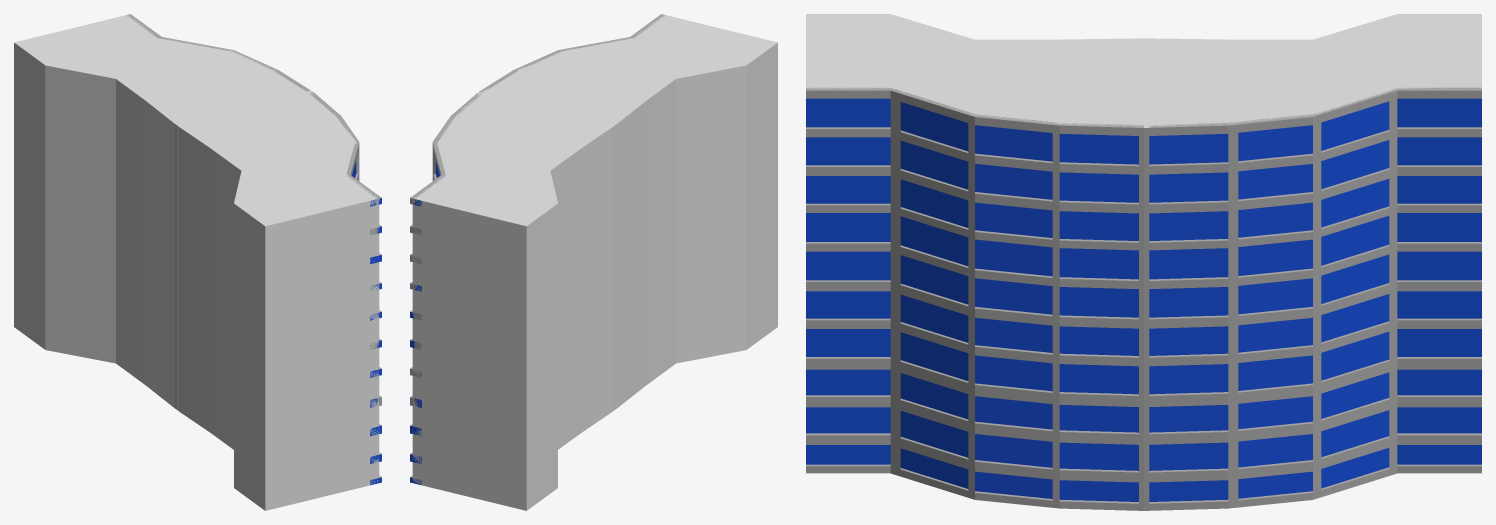
File: aaa.fbx
The picture shows the model from 3 angles, left to right: view 1: azimuth 30°, elevation 25°; view 2: azimuth 150°, elevation 25°; view 3: azimuth 270°, elevation 25°; orthographic projection. The views are drawn at different scales.
Visible parts, largest first — view 1: Cube.001; view 2: Cube.001; view 3: Cube.001.
Part boxes in pixels (x1,y1,x2,y2): Cube.001: (14,14,381,510); Cube.001: (410,14,777,510); Cube.001: (806,14,1481,510).
Bounding box in the file's own units: 12.78 × 20 × 32.
